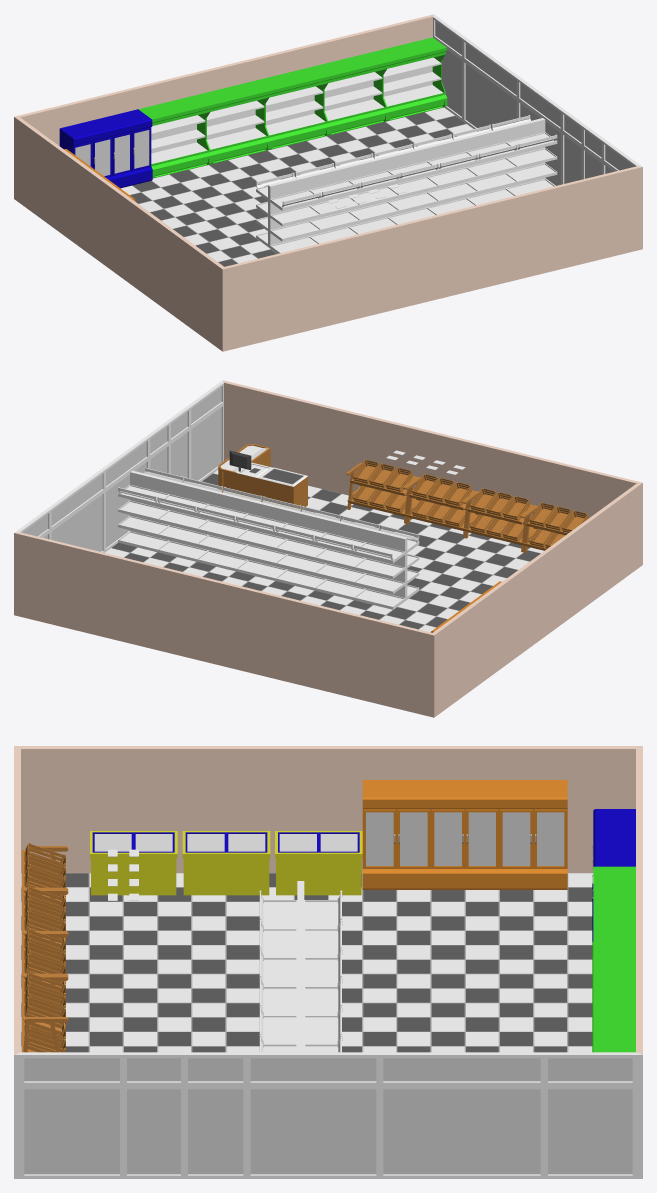
File: Swalayan 1.fbx
The picture shows the model from 3 angles, top to bottom: view 1: azimuth 30°, elevation 25°; view 2: azimuth 150°, elevation 25°; view 3: azimuth 270°, elevation 25°; orthographic projection. The views are drawn at different scales.
Visible parts, largest first — view 1: Cube.037, Plane.033, Kaca Depan, Cube.050, Cube.051, Cube.053, Cube.054, Cube.052, Plane.049, Plane.045, Plane.044, Plane.043 (+11 smaller); view 2: Cube.037, Plane.033, Kaca Depan, Cube.045, Plane.050, Plane.051, Plane.052, Plane.054, Plane.056, Plane.055, Plane.053, Cube.046 (+4 smaller); view 3: Plane.033, Cube.037, Kaca Depan, Lmari Es Bsr, Lmari Es Bsr.001, Lmari Es Bsr.002, Freezer.001, Freezer, Freezer.002, Cube.049, Kaca Lmari Es Bsr, Kaca Lmari Es Bsr.001 (+26 smaller).
Part boxes in pixels (bbox=[...]): Cube.037: bbox=[14, 14, 642, 351]; Plane.033: bbox=[121, 107, 476, 266]; Kaca Depan: bbox=[435, 21, 634, 185]; Cube.050: bbox=[197, 80, 270, 164]; Cube.051: bbox=[256, 66, 329, 150]; Cube.053: bbox=[315, 51, 388, 135]; Cube.054: bbox=[374, 37, 447, 121]; Cube.052: bbox=[138, 95, 211, 178]; Plane.049: bbox=[269, 176, 321, 253]; Plane.045: bbox=[426, 138, 478, 214]; Plane.044: bbox=[466, 128, 517, 204]; Plane.043: bbox=[505, 119, 557, 195]; Cube.037: bbox=[14, 380, 642, 717]; Plane.033: bbox=[104, 469, 543, 632]; Kaca Depan: bbox=[22, 387, 221, 551]; Cube.045: bbox=[218, 444, 307, 509]; Plane.050: bbox=[353, 529, 406, 609]; Plane.051: bbox=[314, 519, 366, 599]; Plane.052: bbox=[275, 509, 327, 590]; Plane.054: bbox=[196, 490, 248, 571]; Plane.056: bbox=[118, 471, 169, 551]; Plane.055: bbox=[157, 481, 209, 561]; Plane.053: bbox=[236, 500, 287, 580]; Cube.046: bbox=[405, 474, 477, 537]; Plane.033: bbox=[21, 873, 593, 1052]; Cube.037: bbox=[14, 746, 642, 1178]; Kaca Depan: bbox=[24, 1058, 632, 1174]; Lmari Es Bsr: bbox=[499, 780, 567, 889]; Lmari Es Bsr.001: bbox=[431, 780, 499, 889]; Lmari Es Bsr.002: bbox=[362, 780, 430, 889]; Freezer.001: bbox=[182, 831, 270, 895]; Freezer: bbox=[275, 831, 362, 895]; Freezer.002: bbox=[90, 831, 177, 895]; Cube.049: bbox=[22, 972, 68, 1052]; Kaca Lmari Es Bsr: bbox=[502, 812, 564, 865]; Kaca Lmari Es Bsr.001: bbox=[434, 812, 495, 865].
Bounding box in the file's own units: 2139 × 414 × 1840.
